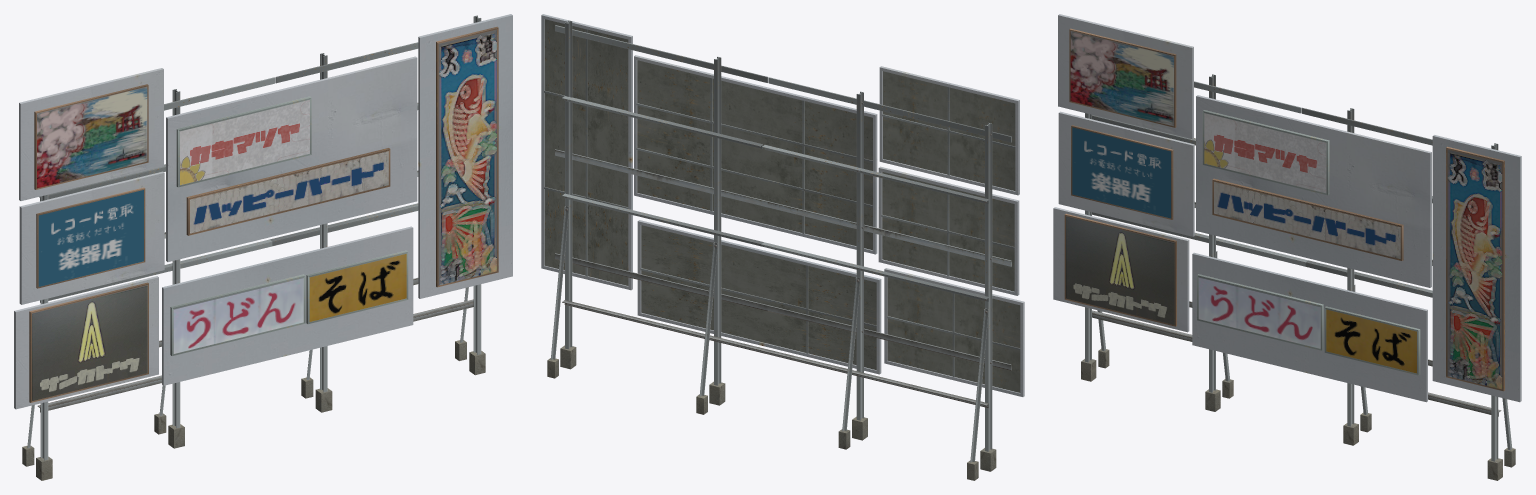
Rendered from signboardframe02b.fbx.
3 views of the same model, side by side, from view 1: azimuth 30°, elevation 25°; view 2: azimuth 150°, elevation 25°; view 3: azimuth 330°, elevation 25° (orthographic). The views are drawn at different scales.
Parts seen in each view (by area): view 1: signboardframe02b; view 2: signboardframe02b; view 3: signboardframe02b.
Part boxes in pixels (x1=…): signboardframe02b: x1=14, y1=14, x2=512, y2=480; signboardframe02b: x1=541, y1=14, x2=1024, y2=480; signboardframe02b: x1=1053, y1=14, x2=1521, y2=480.
Bounding box in the file's own units: 468 × 39.56 × 345.
4 materials, 4 textured.
